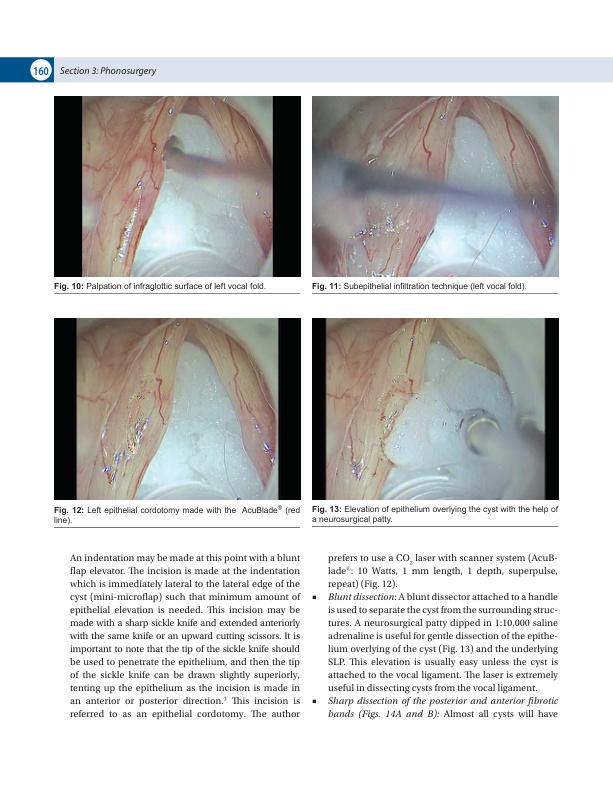caption: (53, 505, 301, 526), (311, 505, 560, 525), (311, 281, 527, 292), (53, 281, 266, 292)
header: (59, 65, 157, 77)
image: (54, 317, 301, 501), (311, 318, 560, 500), (54, 95, 302, 277), (312, 96, 559, 278)
text: (69, 553, 302, 721), (326, 592, 560, 694), (327, 551, 560, 590), (326, 695, 559, 721)
